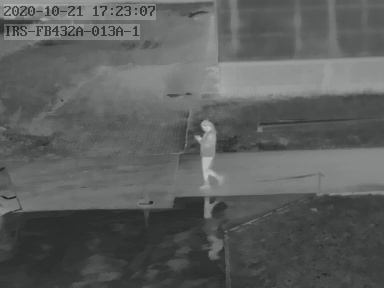person: (194, 119, 225, 188)
